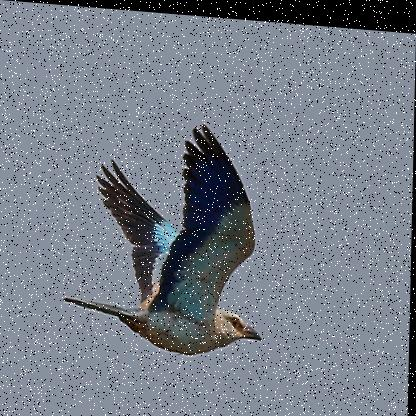Burung: (62, 112, 268, 357)
